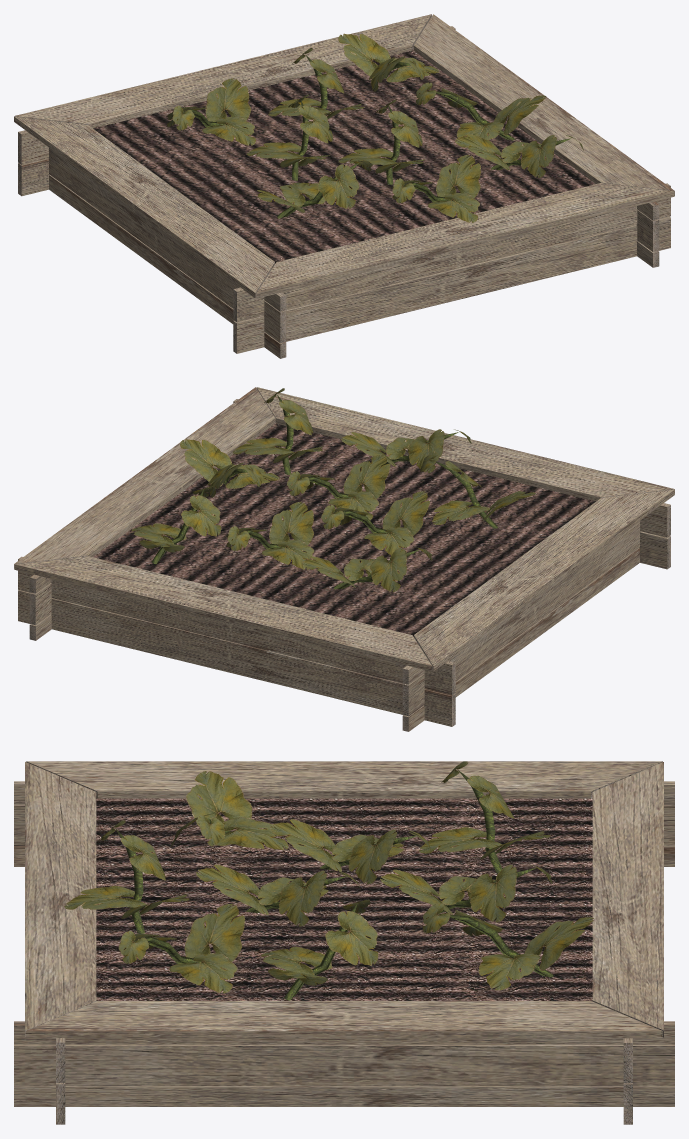
File: pumpkin-wilted.dae
3 views of the same model, one above another, from view 1: azimuth 30°, elevation 25°; view 2: azimuth 150°, elevation 25°; view 3: azimuth 270°, elevation 25° (orthographic). The views are drawn at different scales.
Visible parts, largest first — view 1: dirt, plank_01_Cube_02, top_1_Cube_016, top_4_Cube_023, top_3_Cube_021, top_2_Cube_022, plank_02_Cube_03, plank_09_Cube_013, plank_08_Cube_011, pumpkinOld_001, pumpkinOld_004, pumpkinOld (+9 smaller); view 2: dirt, plank_06_Cube_009, top_3_Cube_021, top_4_Cube_023, top_2_Cube_022, top_1_Cube_016, plank_07_Cube_010, plank_09_Cube_013, plank_08_Cube_011, pumpkinOld_008_pumpkinOld_010, pumpkinOld_002, pumpkinOld_006_pumpkinOld_007 (+9 smaller); view 3: dirt, plank_04_Cube_006, top_2_Cube_022, top_4_Cube_023, top_3_Cube_021, top_1_Cube_016, plank_03_Cube_004, pumpkinOld_007_pumpkinOld_009, plank_05_Cube_007, pumpkinOld_003, pumpkinOld, pumpkinOld_005_pumpkinOld_006 (+6 smaller).
Boxes of the visible parts, x1,y1,x2,y2 form: dirt: [93, 49, 595, 263]; plank_01_Cube_02: [233, 216, 670, 353]; top_1_Cube_016: [256, 183, 674, 298]; top_4_Cube_023: [14, 116, 274, 298]; top_3_Cube_021: [14, 14, 431, 128]; top_2_Cube_022: [413, 14, 674, 195]; plank_02_Cube_03: [233, 183, 670, 322]; plank_09_Cube_013: [48, 148, 286, 343]; plank_08_Cube_011: [49, 175, 286, 358]; pumpkinOld_001: [167, 78, 255, 145]; pumpkinOld_004: [392, 154, 480, 222]; pumpkinOld: [257, 160, 372, 218]; dirt: [93, 423, 595, 636]; plank_06_Cube_009: [18, 590, 455, 726]; top_3_Cube_021: [14, 556, 432, 671]; top_4_Cube_023: [414, 489, 674, 671]; top_2_Cube_022: [14, 387, 275, 569]; top_1_Cube_016: [256, 387, 674, 501]; plank_07_Cube_010: [18, 556, 455, 695]; plank_09_Cube_013: [402, 521, 640, 716]; plank_08_Cube_011: [402, 548, 639, 731]; pumpkinOld_008_pumpkinOld_010: [226, 501, 314, 569]; pumpkinOld_002: [321, 491, 430, 554]; pumpkinOld_006_pumpkinOld_007: [287, 454, 390, 520]; dirt: [96, 798, 592, 1001]; plank_04_Cube_006: [14, 1044, 674, 1086]; top_2_Cube_022: [25, 1001, 662, 1038]; top_4_Cube_023: [26, 761, 662, 798]; top_3_Cube_021: [592, 762, 663, 1037]; top_1_Cube_016: [25, 762, 96, 1037]; plank_03_Cube_004: [14, 1086, 674, 1106]; pumpkinOld_007_pumpkinOld_009: [118, 903, 245, 993]; plank_05_Cube_007: [14, 1021, 674, 1044]; pumpkinOld_003: [422, 903, 593, 990]; pumpkinOld: [170, 771, 288, 850]; pumpkinOld_005_pumpkinOld_006: [261, 899, 378, 1000].
Size of the model in its own units: 3.68 by 3.68 by 0.9013.
Materials: 4 (4 with a texture image).
